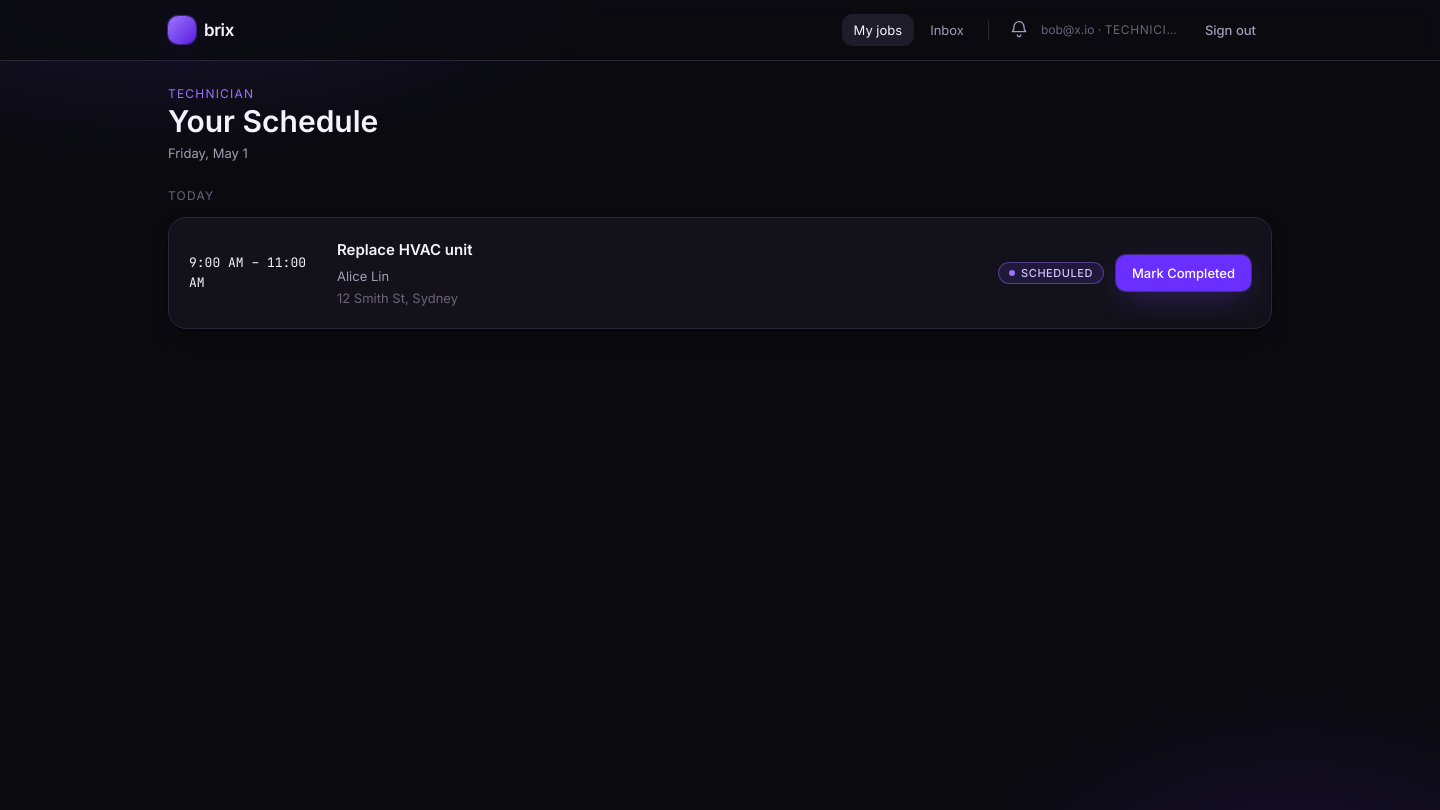
Test: Technician page › rolls back optimistic update and surfaces error if PATCH fails
Click the button "Mark Completed": (1183, 273) [1116,255,1251,291]
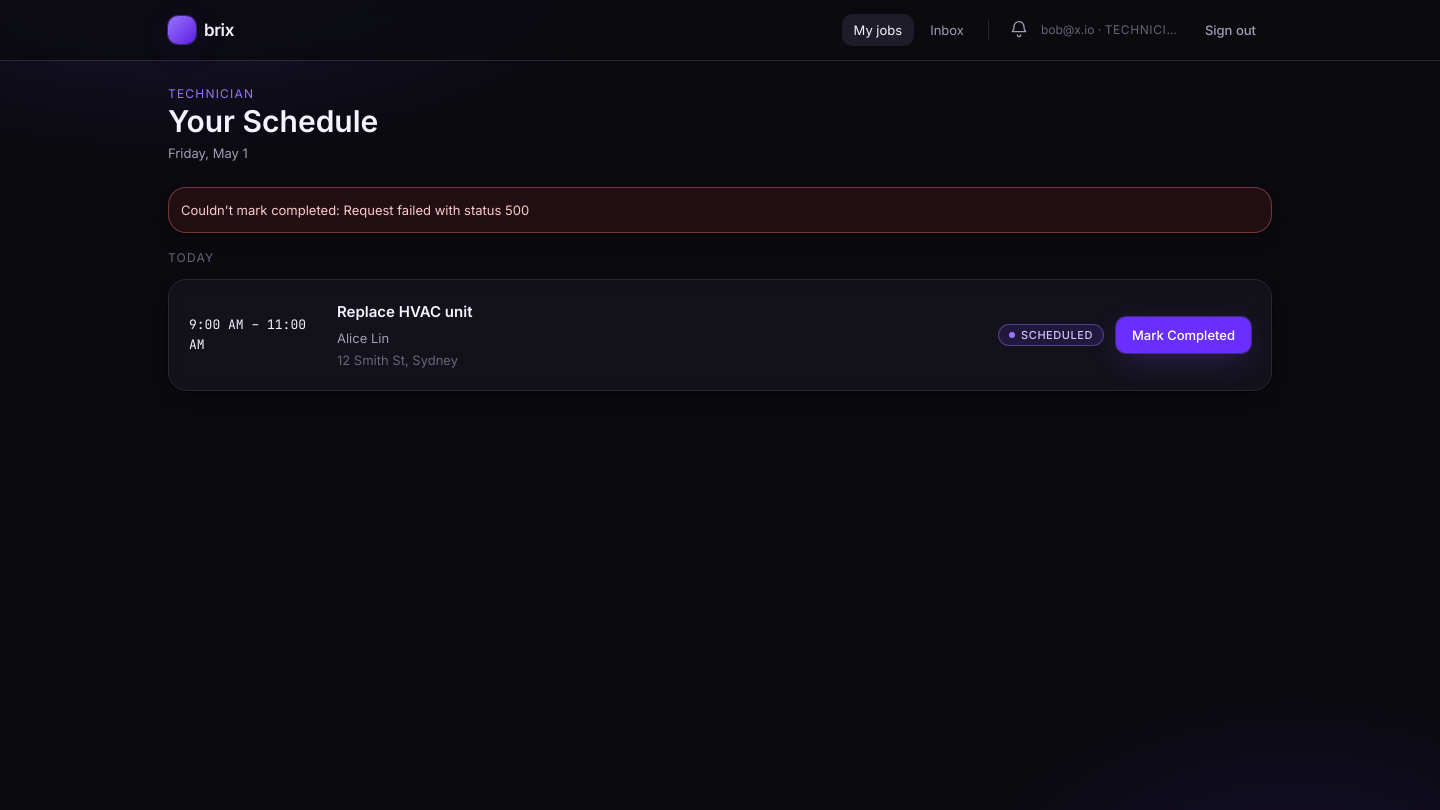
Check: the text "Scheduled" is shown, box [998,324,1104,346]
Check: the message reads "Couldn't mark completed: Request failed with status 500", box [181,202,529,218]
